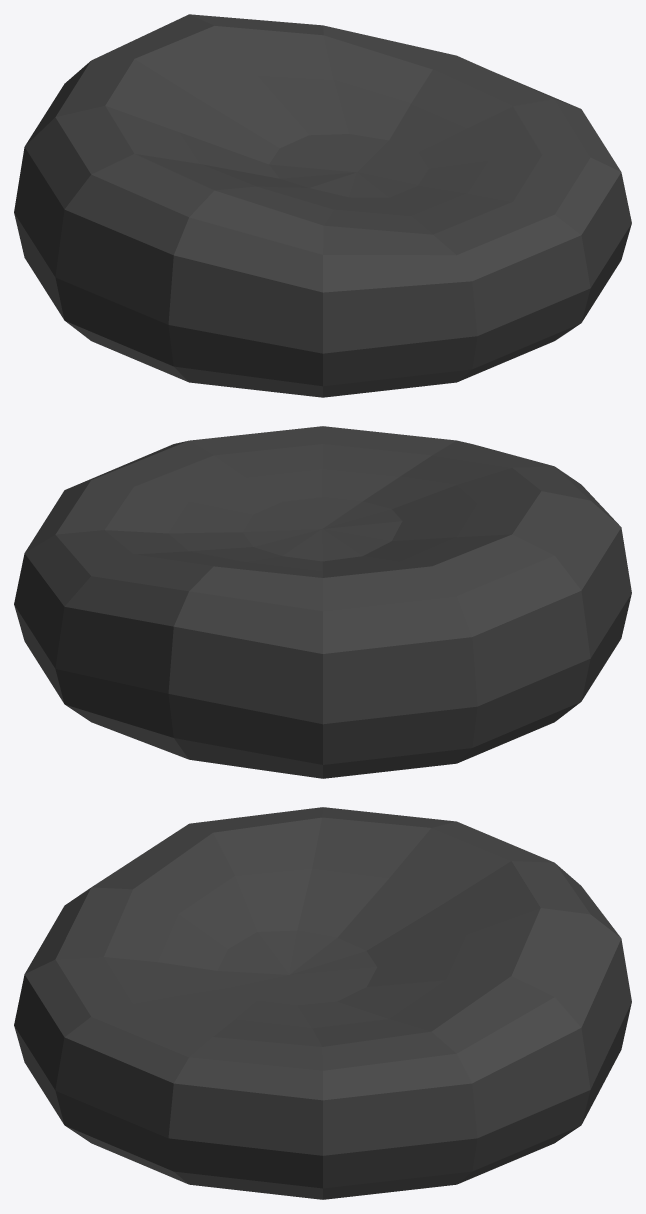
File: SaccoChairV1Grey.fbx
3 views of the same model, one above another, from view 1: azimuth 30°, elevation 25°; view 2: azimuth 150°, elevation 25°; view 3: azimuth 270°, elevation 25° (orthographic).
Visible parts, largest first — view 1: SaccoChairV1Grey; view 2: SaccoChairV1Grey; view 3: SaccoChairV1Grey.
Part boxes in pixels (<box>): SaccoChairV1Grey: <box>14,14,631,397</box>; SaccoChairV1Grey: <box>14,426,631,778</box>; SaccoChairV1Grey: <box>14,807,631,1199</box>.
Bounding box in the file's own units: 200 × 69.41 × 200.
